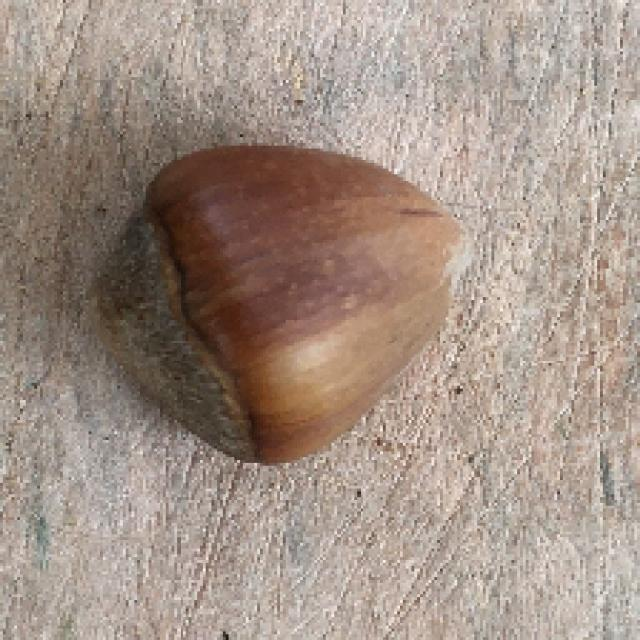damagedHazelnut: (76, 138, 479, 473)
